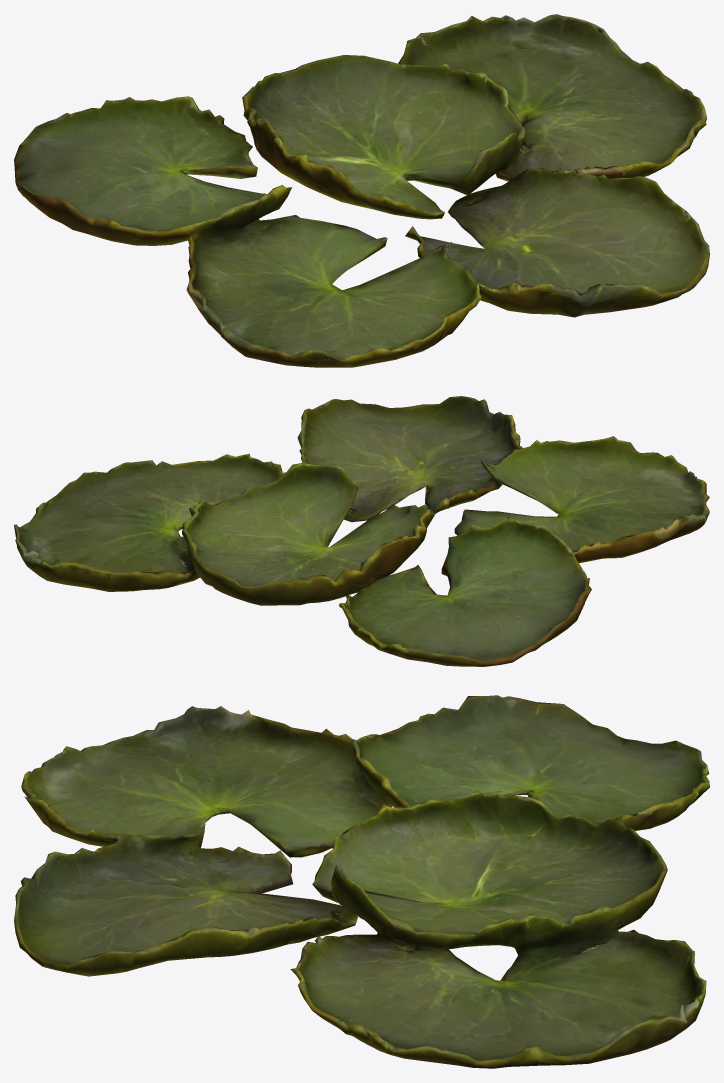
File: plant_lotus_b.glb
3 views of the same model, one above another, from view 1: azimuth 30°, elevation 25°; view 2: azimuth 150°, elevation 25°; view 3: azimuth 270°, elevation 25° (orthographic). The views are drawn at different scales.
Visible parts, largest first — view 1: lo; view 2: lo; view 3: lo.
Part boxes in pixels (x1=…): lo: x1=14, y1=14, x2=709, y2=367; lo: x1=14, y1=396, x2=709, y2=666; lo: x1=14, y1=695, x2=709, y2=1068.
Size of the model in its own units: 1.9 by 0.1698 by 1.69.
Materials: 1 (1 with a texture image).
